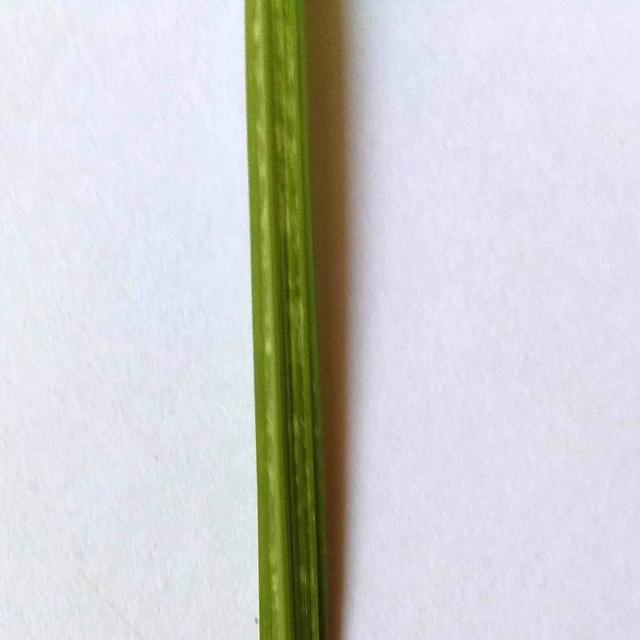Rice_Healthy: (245, 0, 326, 640)
